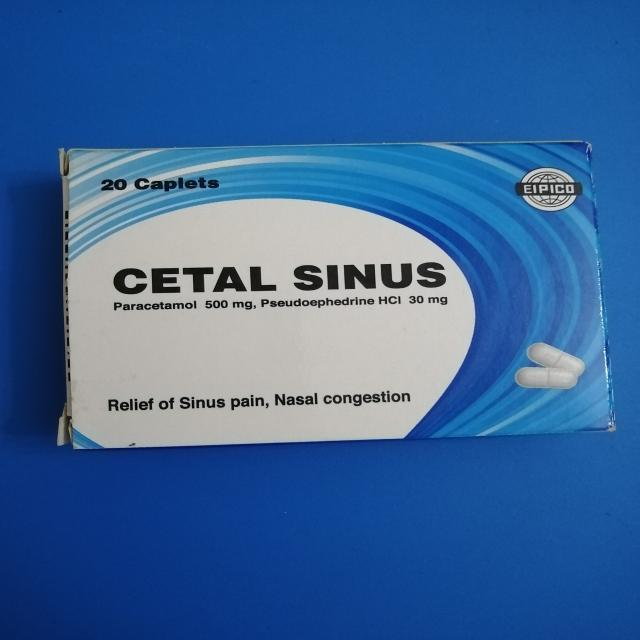Medicine Name: (106, 258, 462, 300)
